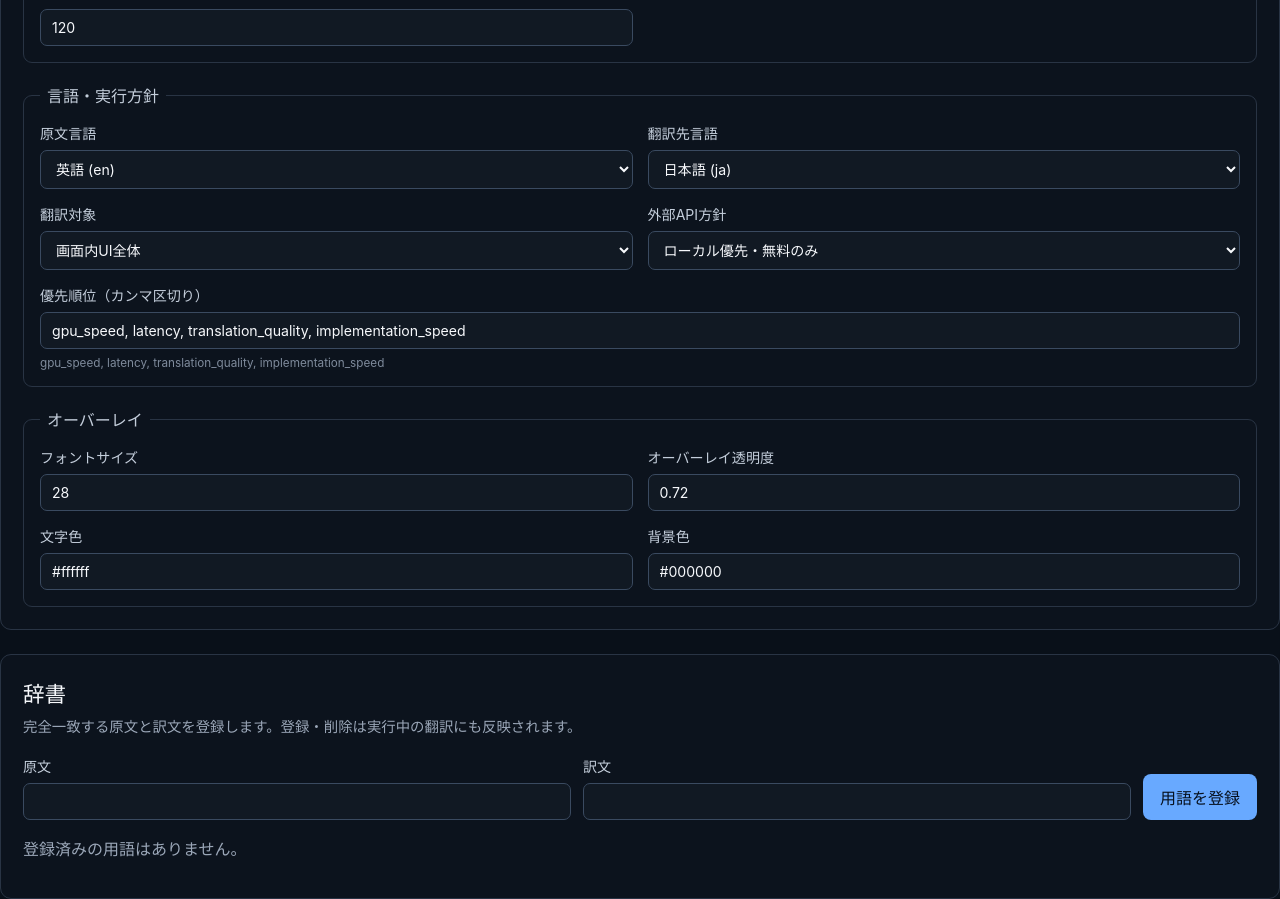
Test: SettingsPanel › 辞書の空文字と重複エラーを表示し、入力値を保持する
The image size is (1280, 899).
(page scrolled)
Click the button "用語を登録" at (1200,797), box [1143,774,1257,820]
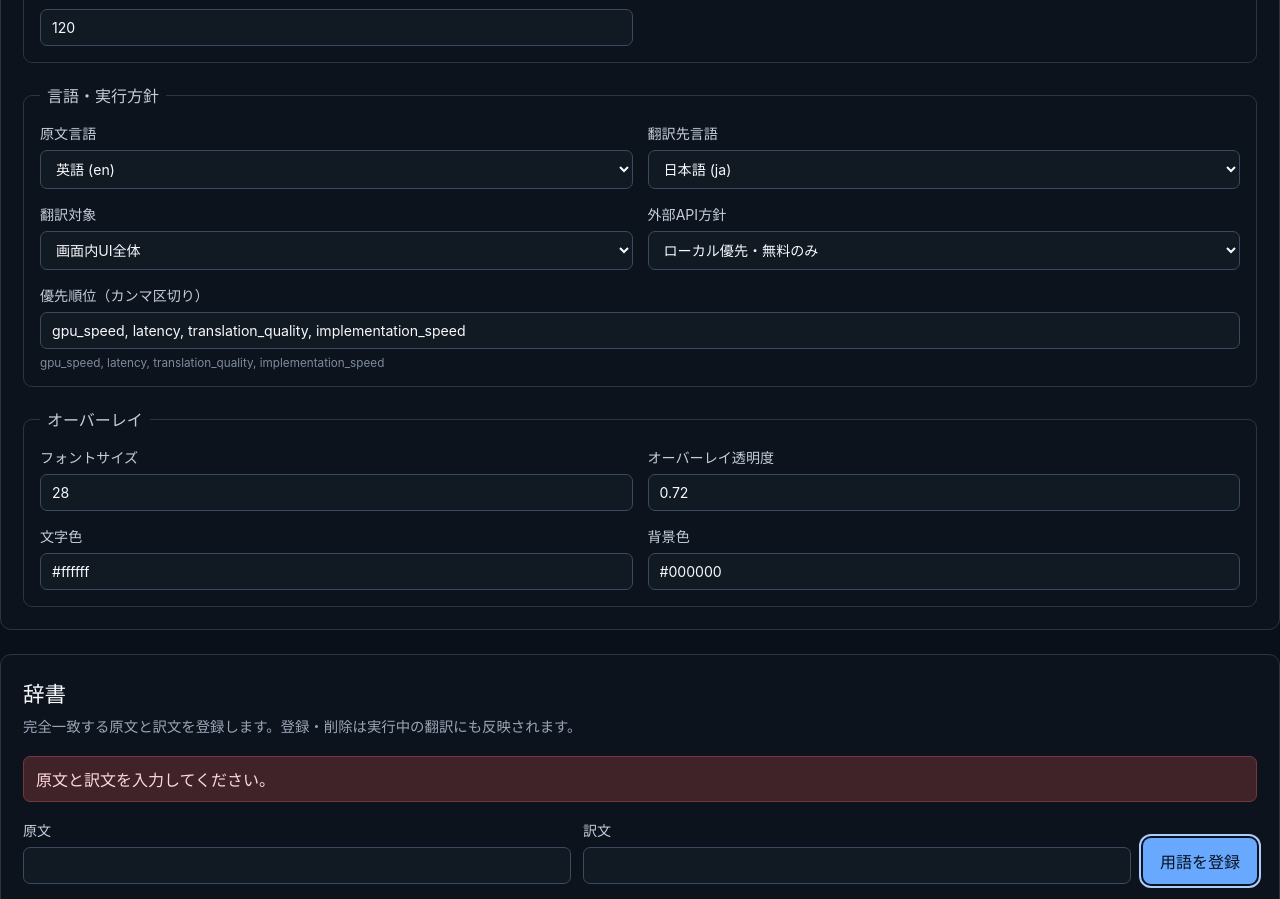
Now the message reads "原文と訳文を入力してください。", box [36,770,275,790]
Type "Save" into the field labelled "原文" at (297,866), box [23,847,571,884]
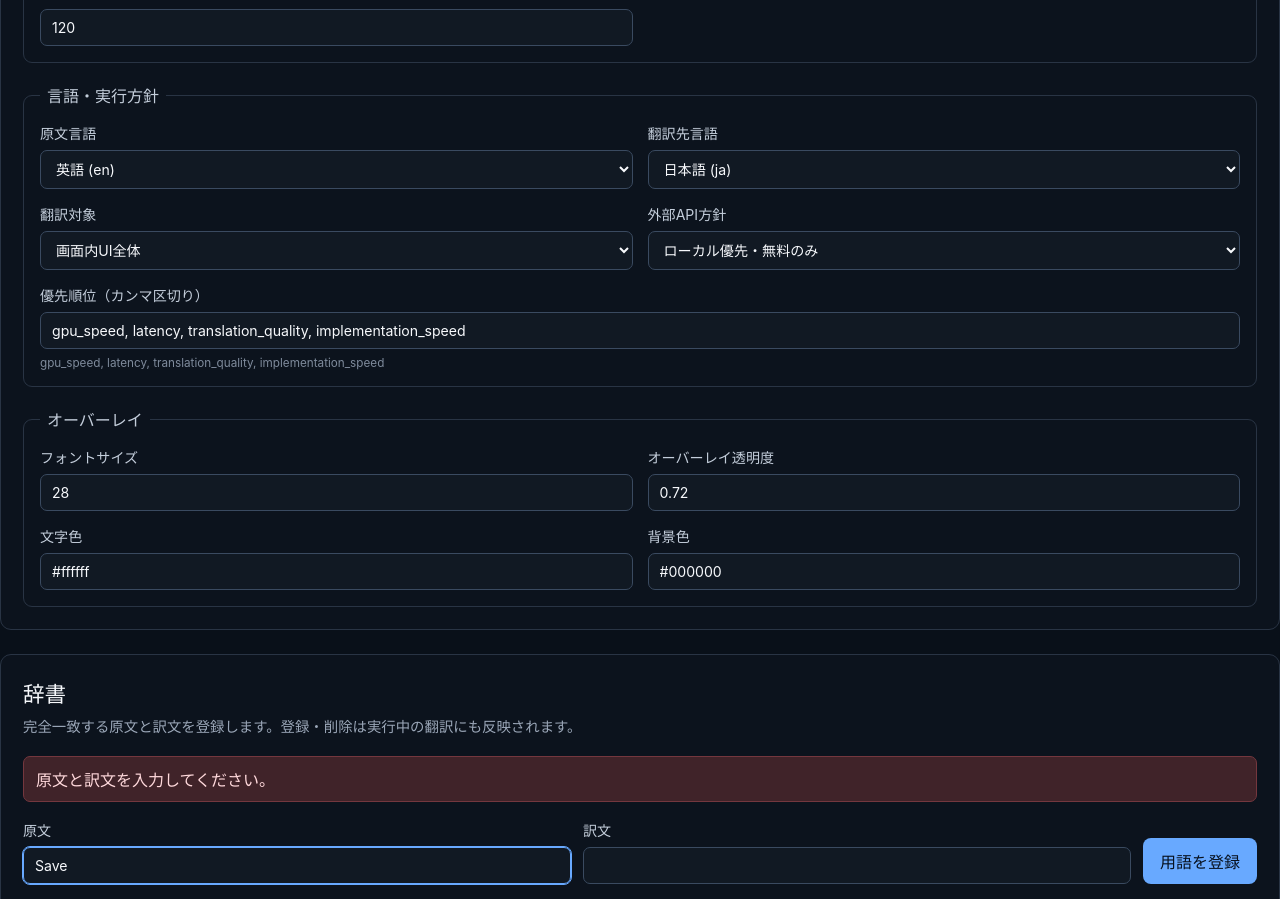
Type "セーブ" into the field labelled "訳文" at (857,866), box [583,847,1131,884]
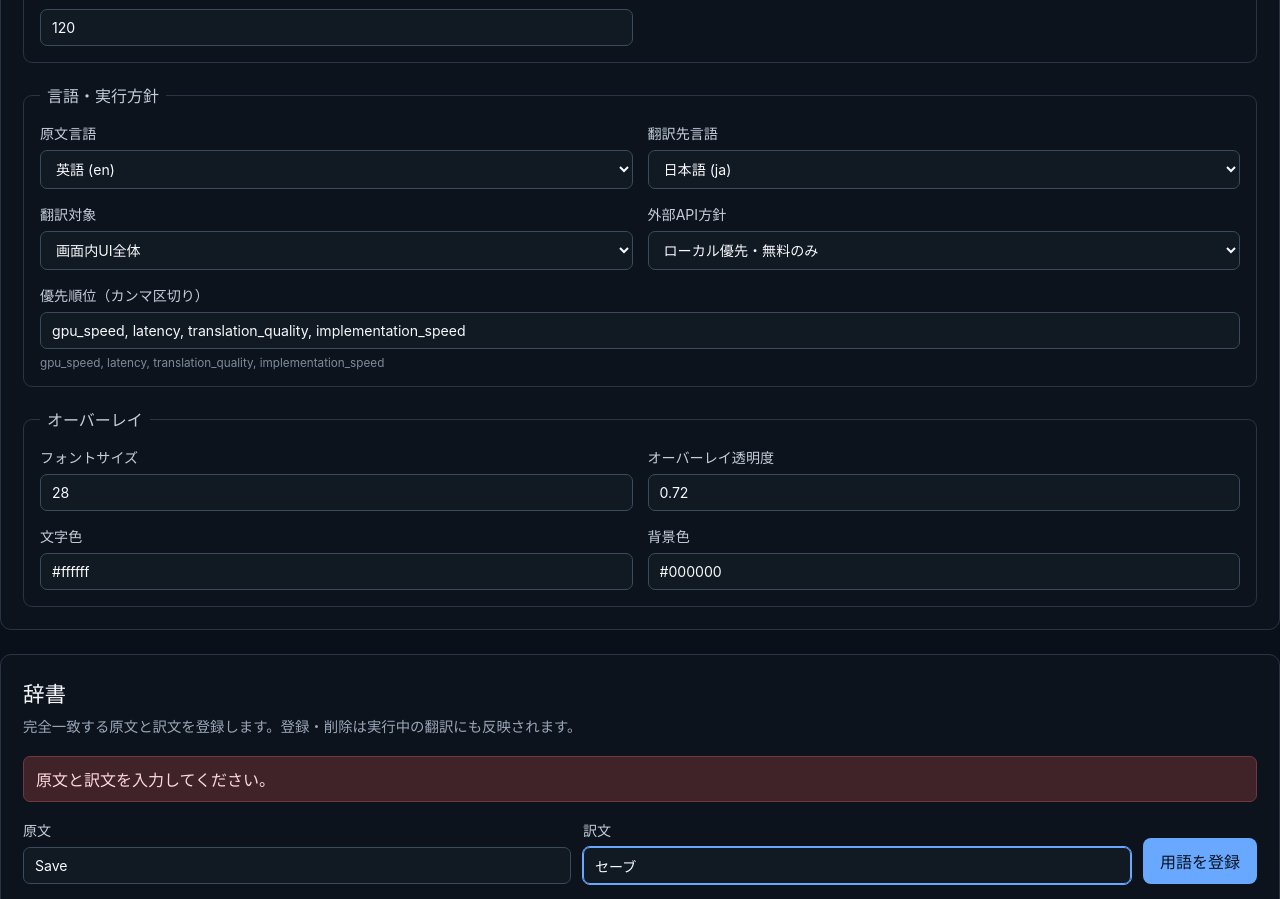
Click the button "用語を登録" at (1200,861), box [1143,838,1257,884]
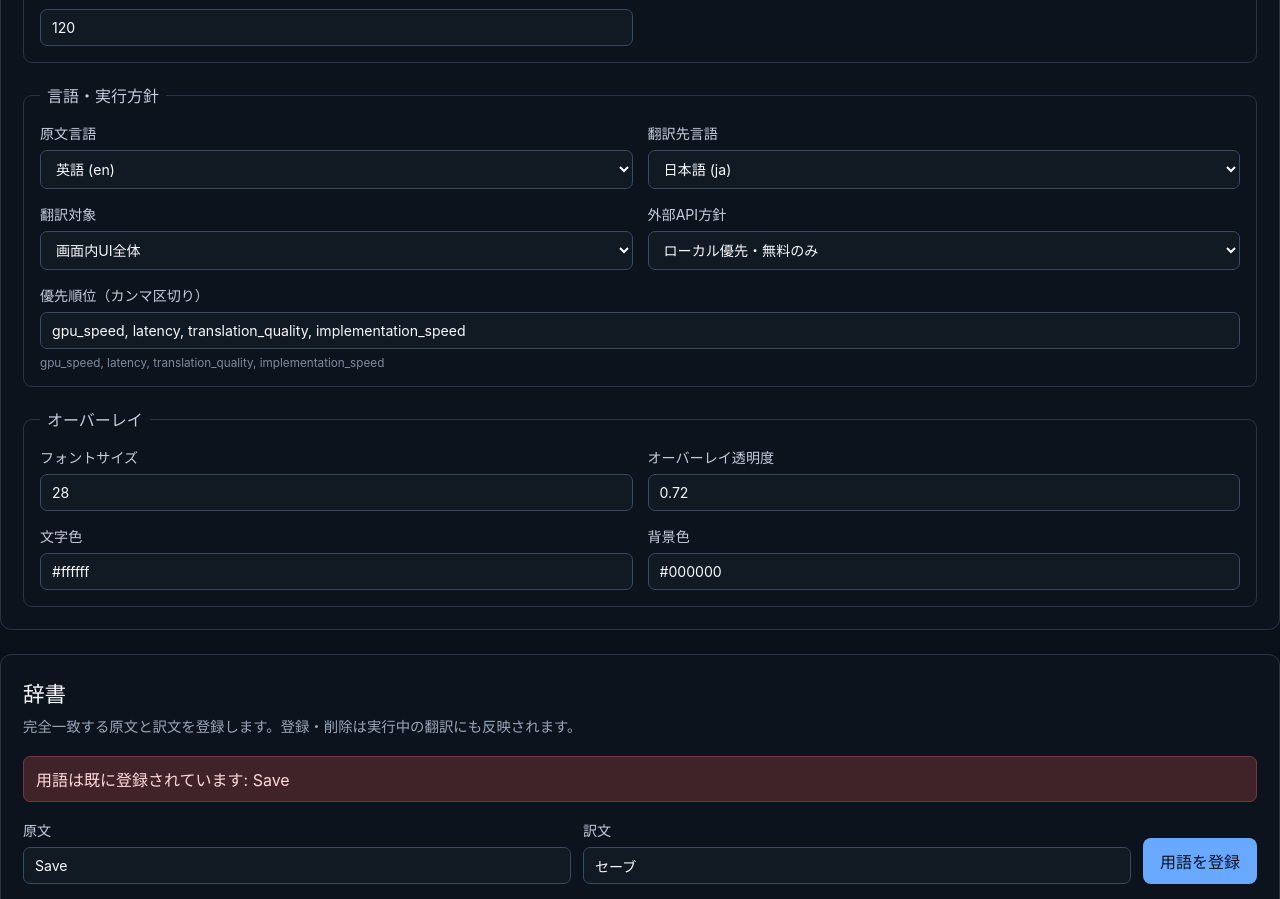
Now the message reads "用語は既に登録されています: Save", box [36,770,290,790]
